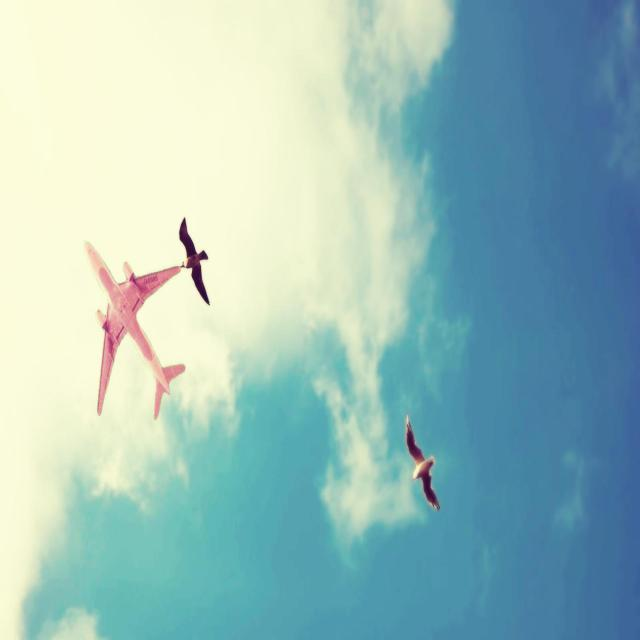airplane: (82, 236, 186, 422)
